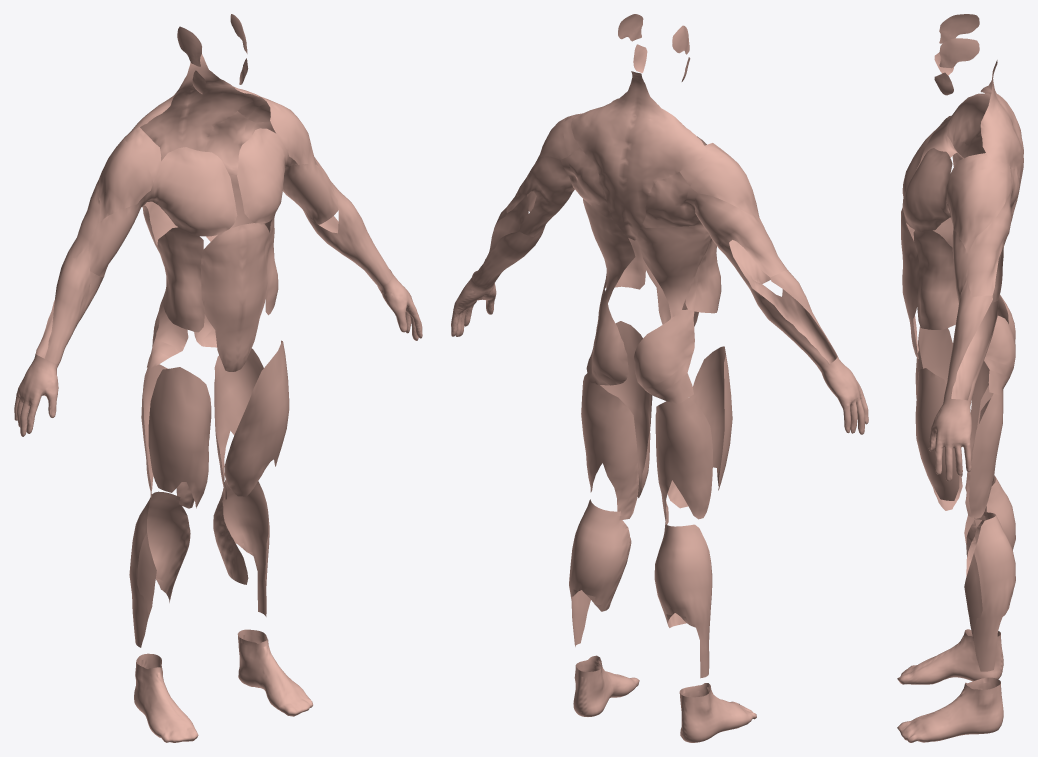
The model's file is Male7.glb.
3 views of the same model, side by side, from view 1: azimuth 30°, elevation 25°; view 2: azimuth 150°, elevation 25°; view 3: azimuth 270°, elevation 25° (orthographic). The views are drawn at different scales.
Visible parts, largest first — view 1: Quads, Calfs, Chest, Abs, Forearms, Feet, Shoulders Deltoid, Traps, External Oblique, Hamstrings, Biceps Brachii, Hand (Grip) (+5 smaller); view 2: Calfs, Hamstrings, Traps, Glutes, Triceps Brachii, Forearms, Quads, Lats, Feet, Shoulders Deltoid, Middle back, Hand (Grip) (+3 smaller); view 3: Calfs, Feet, Shoulders Deltoid, Quads, Chest, External Oblique, Forearms, Hamstrings, Triceps Brachii, Hand (Grip), Traps, Jaw Muscles (+4 smaller).
Part boxes in pixels (x1,y1,x2,y2): Quads: (148,340,289,508); Calfs: (129,479,269,647); Chest: (137,128,297,236); Abs: (200,223,269,371); Forearms: (35,184,392,364); Feet: (134,629,312,742); Shoulders Deltoid: (98,97,319,221); Traps: (131,54,262,157); External Oblique: (157,216,278,332); Hamstrings: (141,348,263,508); Biceps Brachii: (88,163,338,277); Hand (Grip): (14,269,422,436); Calfs: (569,499,712,678); Hamstrings: (581,373,712,525); Traps: (571,71,706,240); Glutes: (586,289,694,404); Triceps Brachii: (506,156,784,289); Forearms: (473,195,837,369); Quads: (600,321,732,508); Lats: (583,199,711,318); Feet: (573,655,756,742); Shoulders Deltoid: (538,113,763,228); Middle back: (560,147,700,227); Hand (Grip): (451,270,868,434); Calfs: (964,475,1015,671); Feet: (897,629,1003,742); Shoulders Deltoid: (947,93,1011,252); Quads: (915,326,962,510); Chest: (902,115,956,231); External Oblique: (913,217,958,329); Forearms: (944,276,998,401); Hamstrings: (965,361,1003,519); Triceps Brachii: (968,131,1011,302); Hand (Grip): (928,399,971,481); Traps: (980,60,1023,207); Jaw Muscles: (934,14,979,95).
Bounding box in the file's own units: 1.19 × 1.95 × 0.3284.
